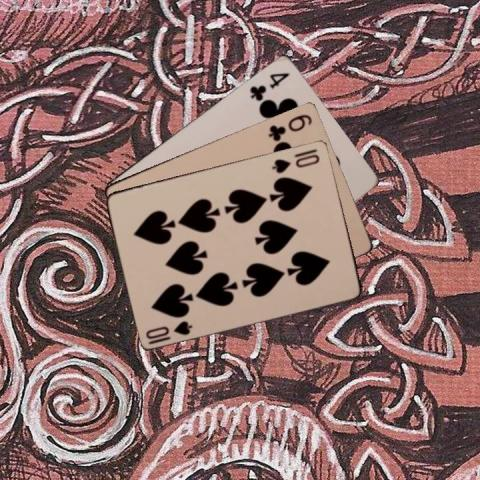10s: (270, 150, 321, 175), (143, 317, 194, 340)
4c: (247, 69, 291, 102)
6c: (265, 111, 314, 142)
